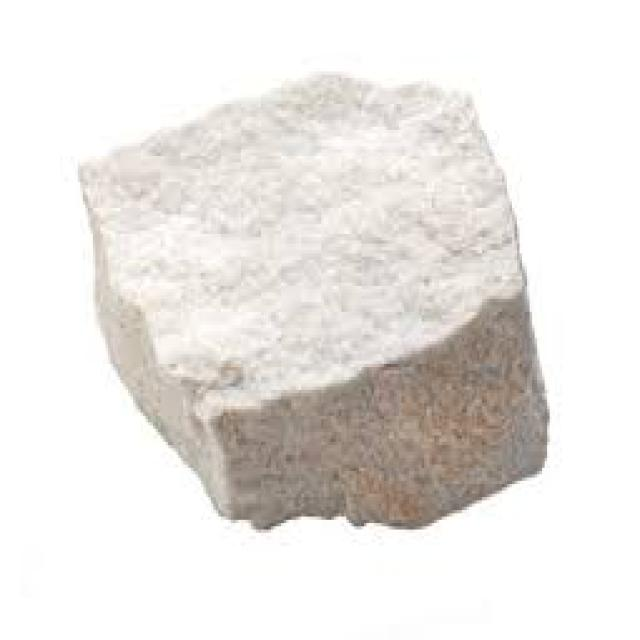Metamorphic: (68, 78, 554, 539)
